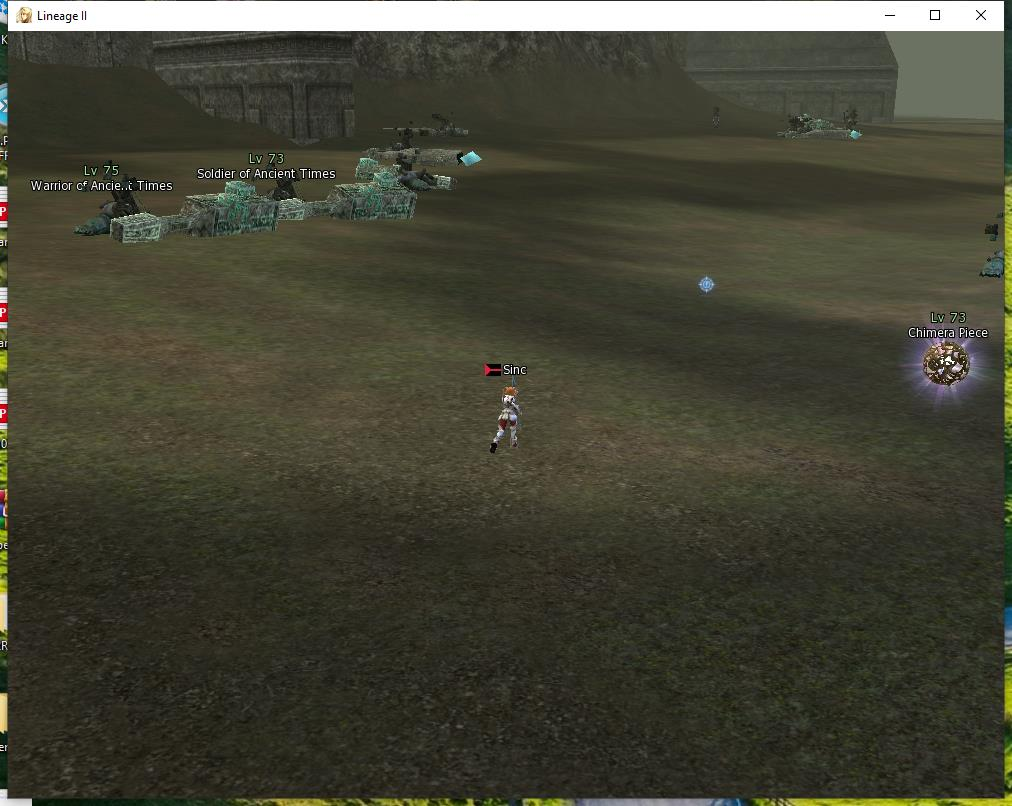monster: (29, 148, 182, 257), (197, 138, 327, 246), (900, 293, 1000, 418), (338, 125, 443, 230), (789, 98, 841, 149), (699, 95, 735, 131)
